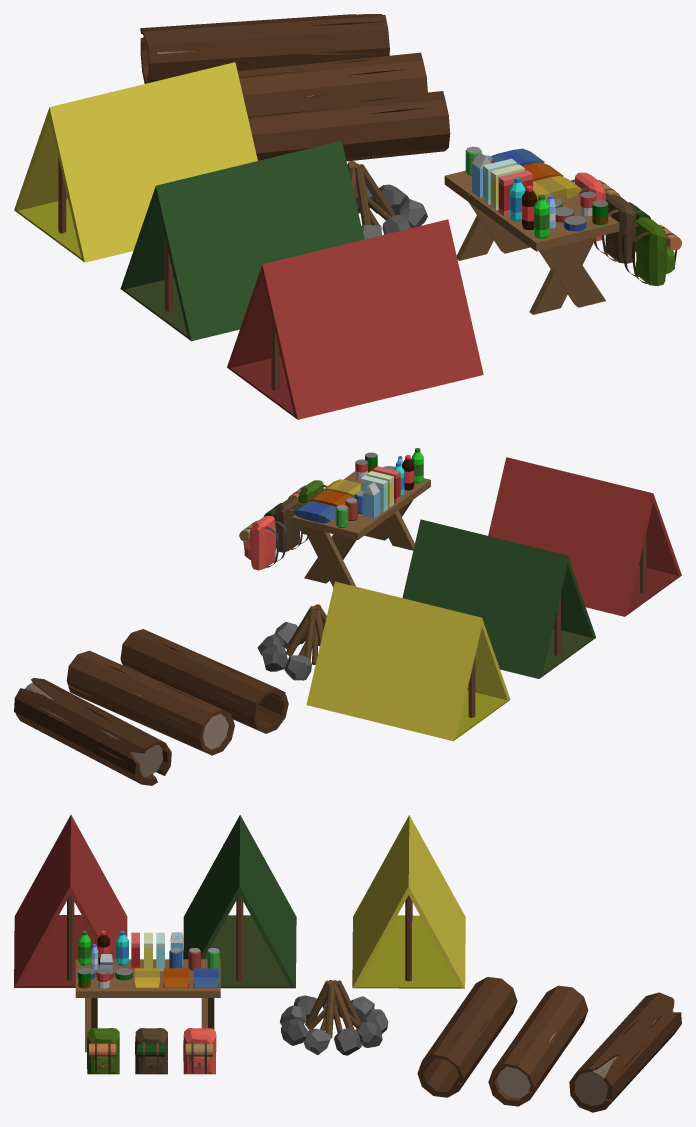
Rendered from mainScene.fbx.
3 renders of one model, top to bottom at view 1: azimuth 30°, elevation 25°; view 2: azimuth 150°, elevation 25°; view 3: azimuth 270°, elevation 25°, orthographic. The views are drawn at different scales.
Parts seen in each view (by area): view 1: tent2, tent3, tent1, log2, log3, table, log1, campfire, backpack3, backpack2, Pack_Chips, cerialsbox3 (+2 smaller); view 2: tent3, tent2, tent1, log1, log2, log3, table, campfire, backpack1, backpack2, Pack_Chips.002, milkbox1; view 3: tent3, tent1, tent2, log2, log1, log3, campfire, table, backpack1, backpack3, backpack2, Pack_Chips.002 (+2 smaller).
Boxes of the visible parts, <box> form: tent2: <box>227,219,483,419</box>; tent3: <box>14,62,257,262</box>; tent1: <box>120,140,364,341</box>; log2: <box>140,14,389,83</box>; log3: <box>246,91,450,161</box>; table: <box>444,170,619,314</box>; log1: <box>237,52,427,110</box>; campfire: <box>347,161,427,239</box>; backpack3: <box>621,217,681,286</box>; backpack2: <box>594,195,650,263</box>; Pack_Chips: <box>533,176,581,200</box>; cerialsbox3: <box>498,170,532,216</box>; tent3: <box>306,581,510,741</box>; tent2: <box>488,457,681,616</box>; tent1: <box>402,519,595,678</box>; log1: <box>66,650,234,755</box>; log2: <box>14,678,171,785</box>; log3: <box>120,629,288,733</box>; table: <box>292,471,430,587</box>; campfire: <box>257,604,326,680</box>; backpack1: <box>239,516,287,570</box>; backpack2: <box>263,498,307,552</box>; Pack_Chips.002: <box>293,501,335,523</box>; milkbox1: <box>363,482,380,518</box>; tent3: <box>352,815,465,988</box>; tent1: <box>183,815,296,988</box>; tent2: <box>14,815,127,987</box>; log2: <box>569,992,681,1112</box>; log1: <box>488,985,588,1106</box>; log3: <box>417,977,517,1097</box>; campfire: <box>280,980,388,1055</box>; table: <box>75,959,220,1052</box>; backpack1: <box>183,1028,216,1074</box>; backpack3: <box>87,1028,119,1074</box>; backpack2: <box>135,1028,167,1074</box>; Pack_Chips.002: <box>193,968,218,987</box>.
Bounding box in the file's own units: 6680 × 2169 × 10599.
